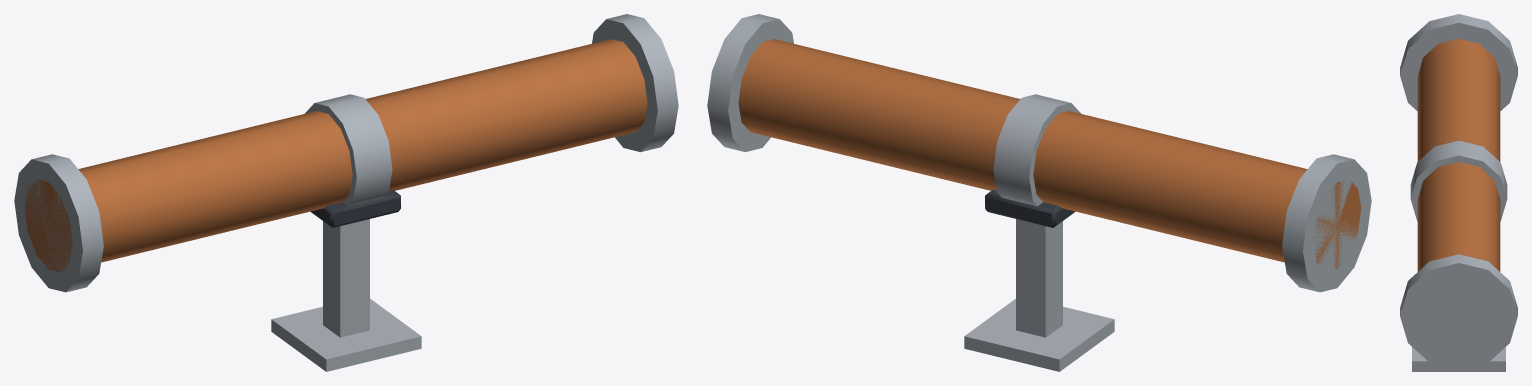
Rendered from pipe_straight.glb.
The picture shows the model from 3 angles, left to right: view 1: azimuth 30°, elevation 25°; view 2: azimuth 150°, elevation 25°; view 3: azimuth 270°, elevation 25°; orthographic projection. The views are drawn at different scales.
Parts seen in each view (by area): view 1: pipe_straight; view 2: pipe_straight; view 3: pipe_straight.
Part boxes in pixels (x1,y1,x2,y2): pipe_straight: (14, 14, 678, 371); pipe_straight: (707, 14, 1371, 371); pipe_straight: (1400, 14, 1517, 371).
Bounding box in the file's own units: 1 × 0.4 × 0.2.
